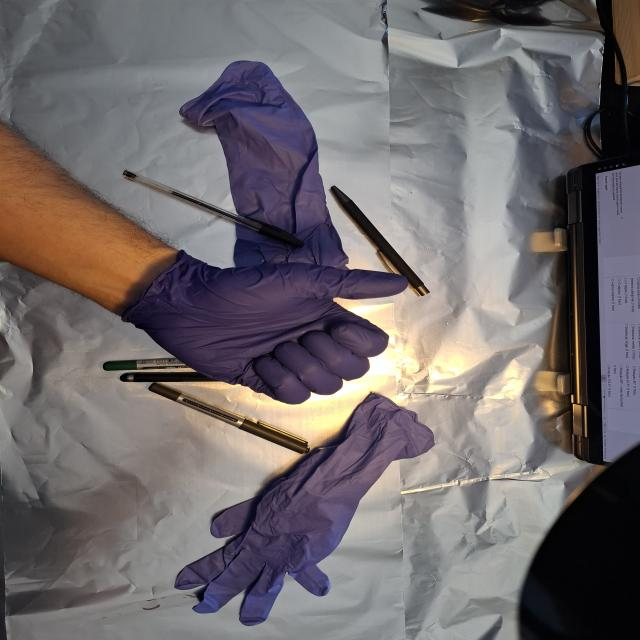glove_on: (125, 254, 413, 407)
